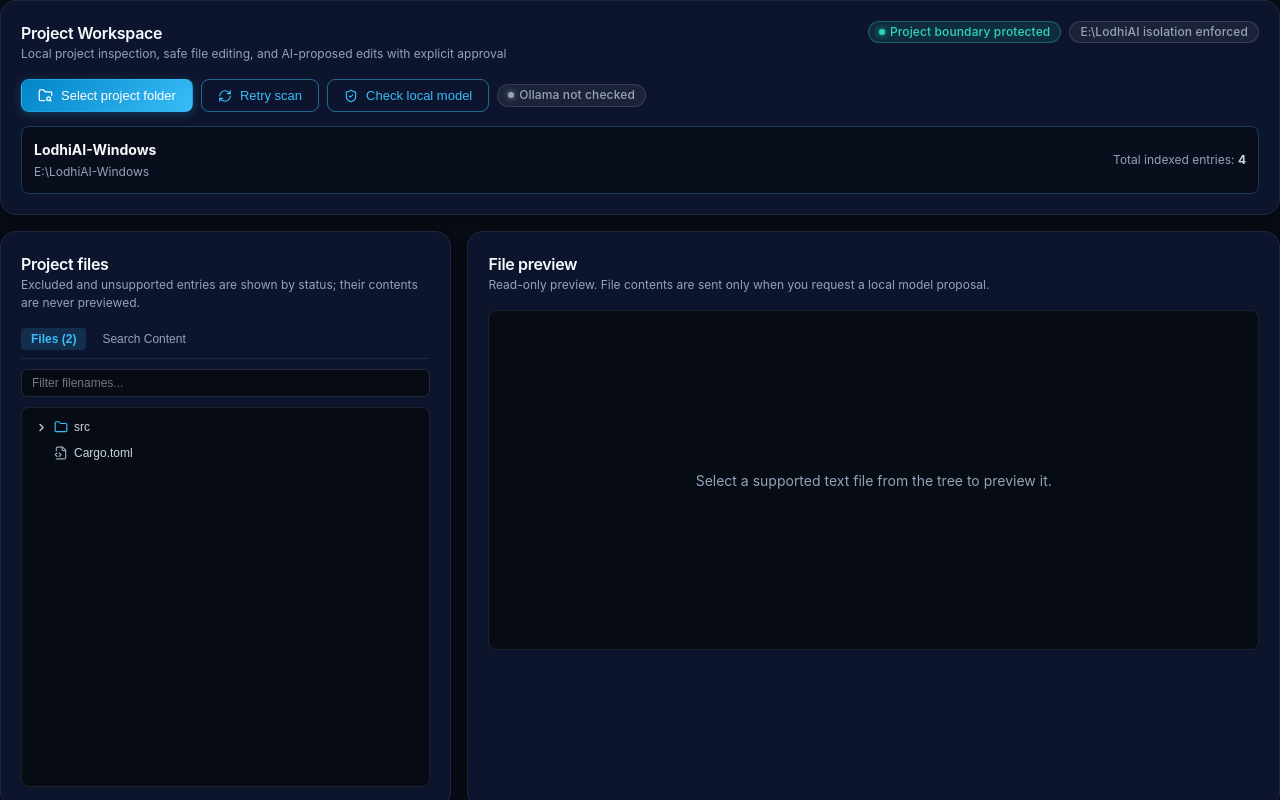
Test: Phase 2 — Project Workspace & Safe File Operations › allows opening a new project folder via native picker
The image size is (1280, 800).
expect the text "Cargo.toml" is shown: met, box [74,446,133,460]
Click the button "Select project folder" at [107, 96], box [21,79,193,112]
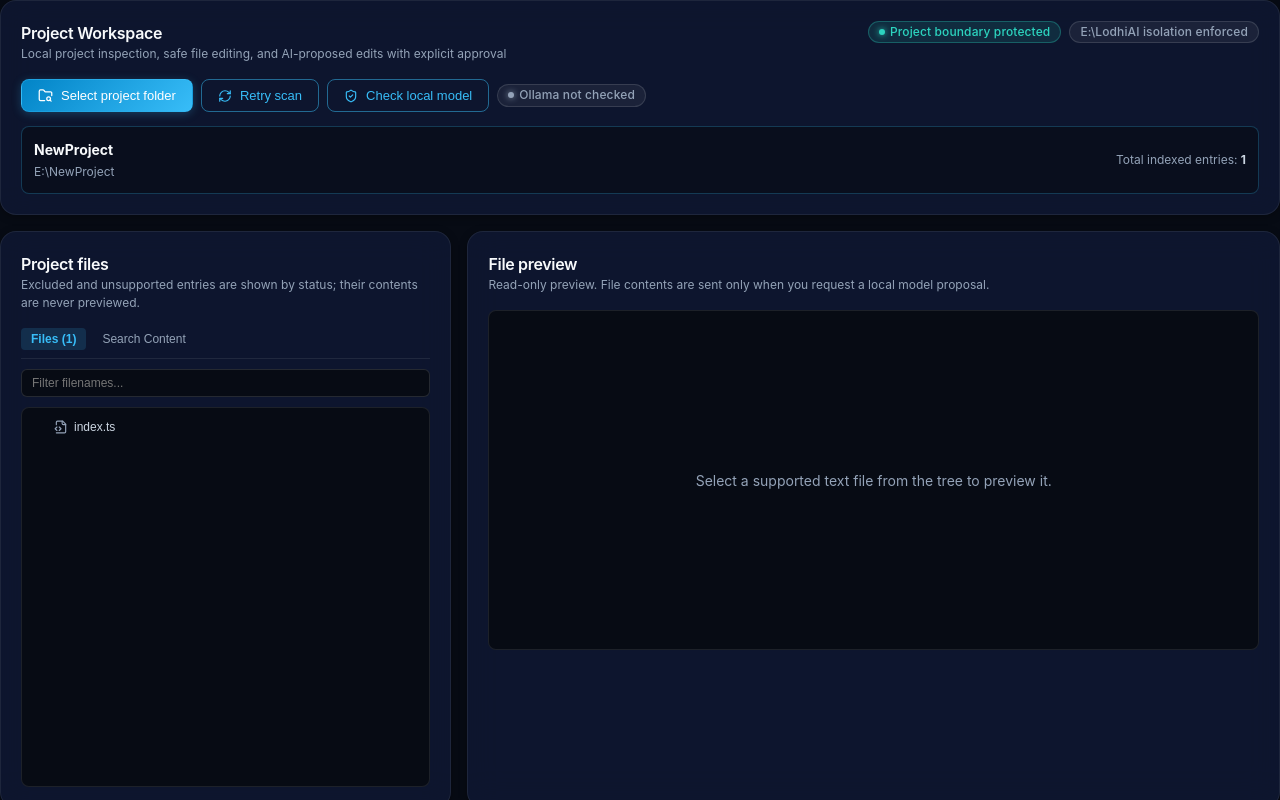
expect the text "NewProject" is shown: met, box [34,141,113,158]
expect the text "index.ts" is shown: met, box [74,420,115,434]
